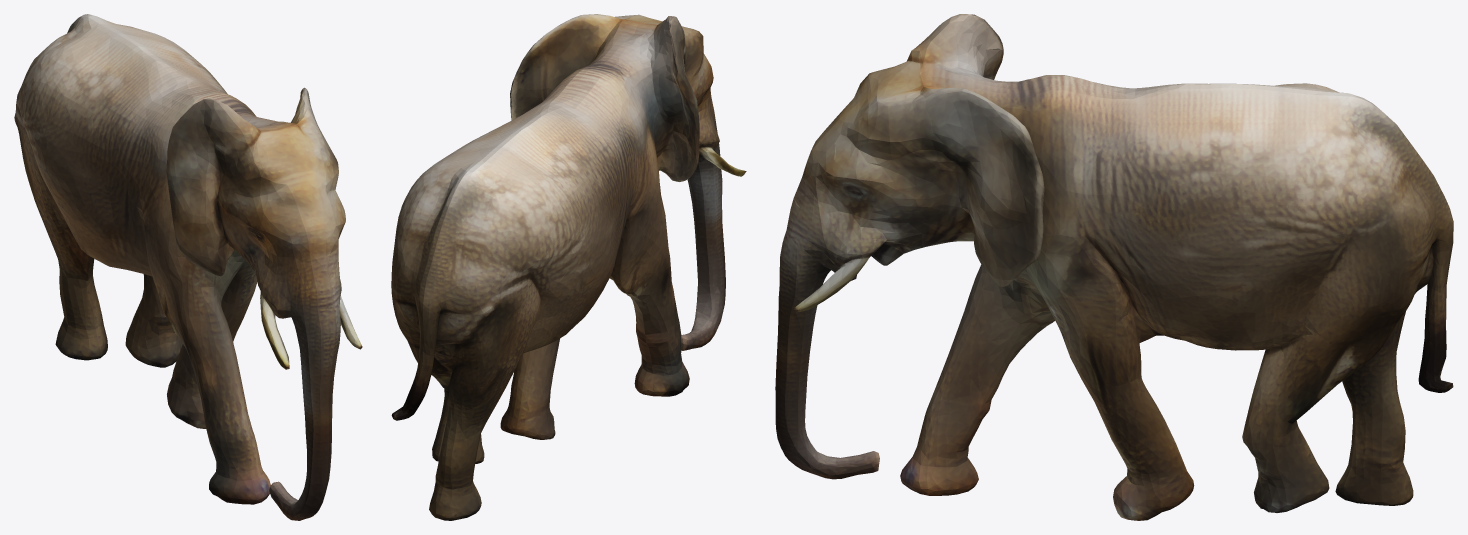
3 renders of one model, left to right at view 1: azimuth 30°, elevation 25°; view 2: azimuth 150°, elevation 25°; view 3: azimuth 270°, elevation 25°, orthographic. The views are drawn at different scales.
Visible parts, largest first — view 1: world; view 2: world; view 3: world.
Part boxes in pixels (left/top/right/bottom): world: left=14, top=14, right=362, bottom=520; world: left=391, top=14, right=746, bottom=520; world: left=775, top=14, right=1453, bottom=520.
Size of the model in its own units: 0.347 by 0.753 by 0.9994.
Materials: 1 (1 with a texture image).
